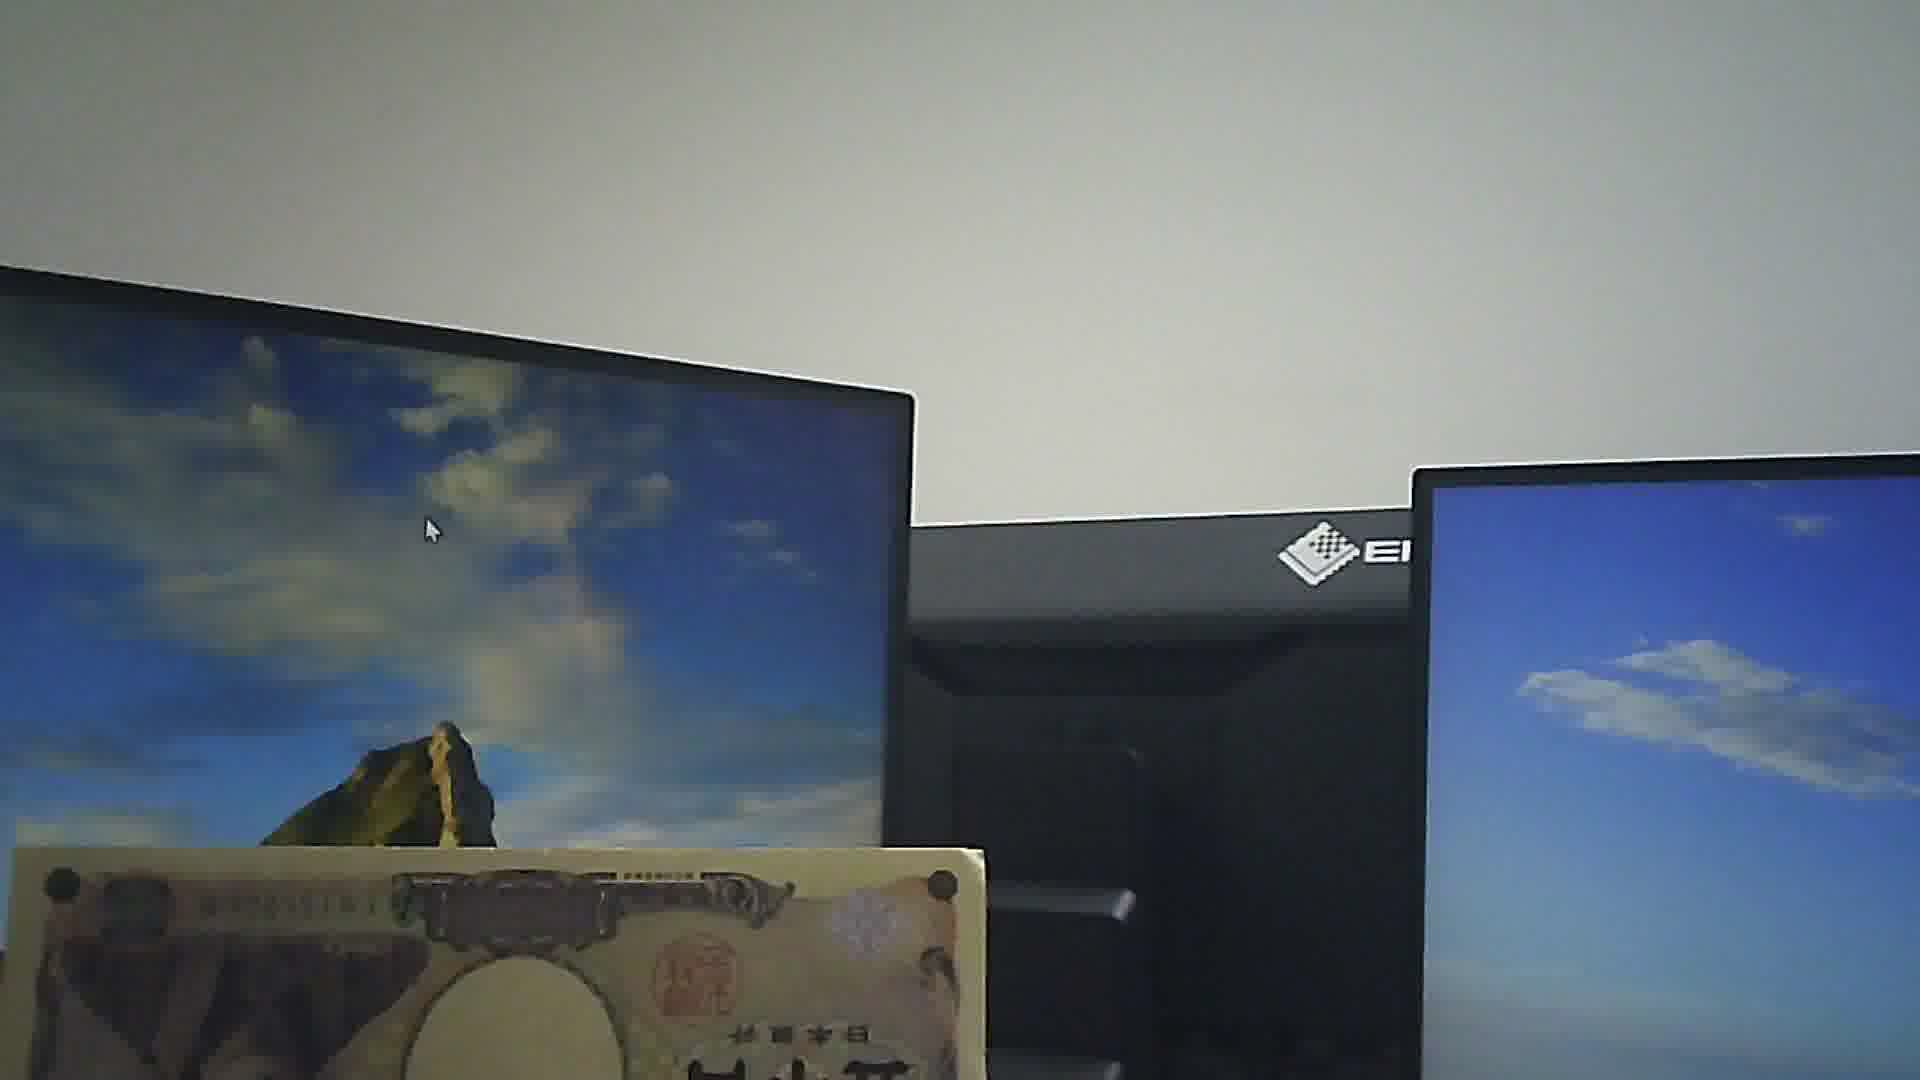5,000 Yen: (11, 835, 1000, 1069)
